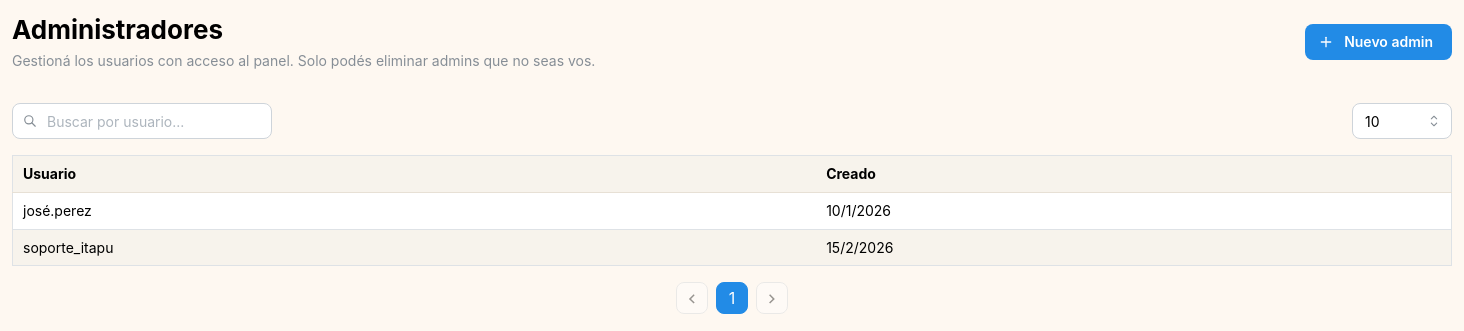
Test case: AdminsPage › debería filtrar por usuario ignorando tildes y mayúsculas
This screenshot has width=1464, height=331.
Check: the text "josé.perez" is shown, box [12, 193, 816, 229]
Type "JOSE" into the field with placeholder "Buscar por usuario...". click: {"x": 142, "y": 121}
box: [12, 103, 272, 139]
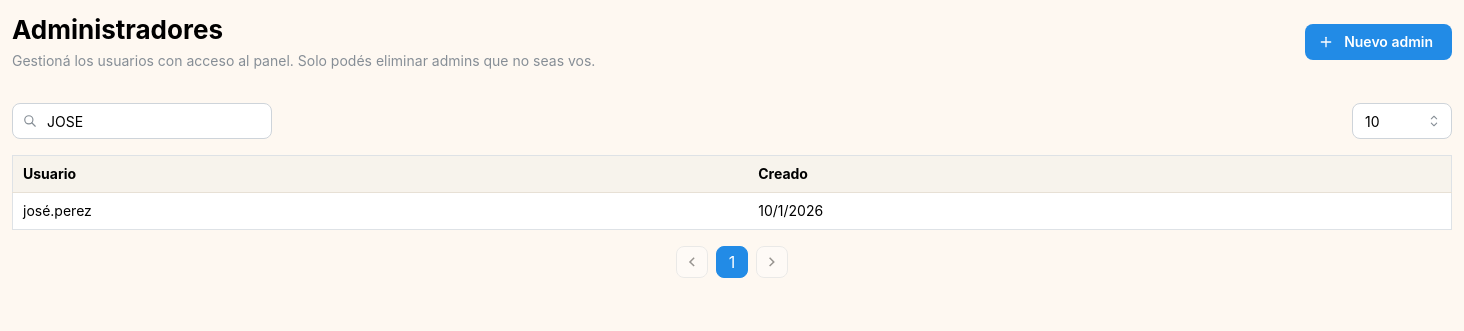
Check: the text "josé.perez" is shown, box [12, 193, 748, 229]
Check: the text "soporte_itapu" is gone
